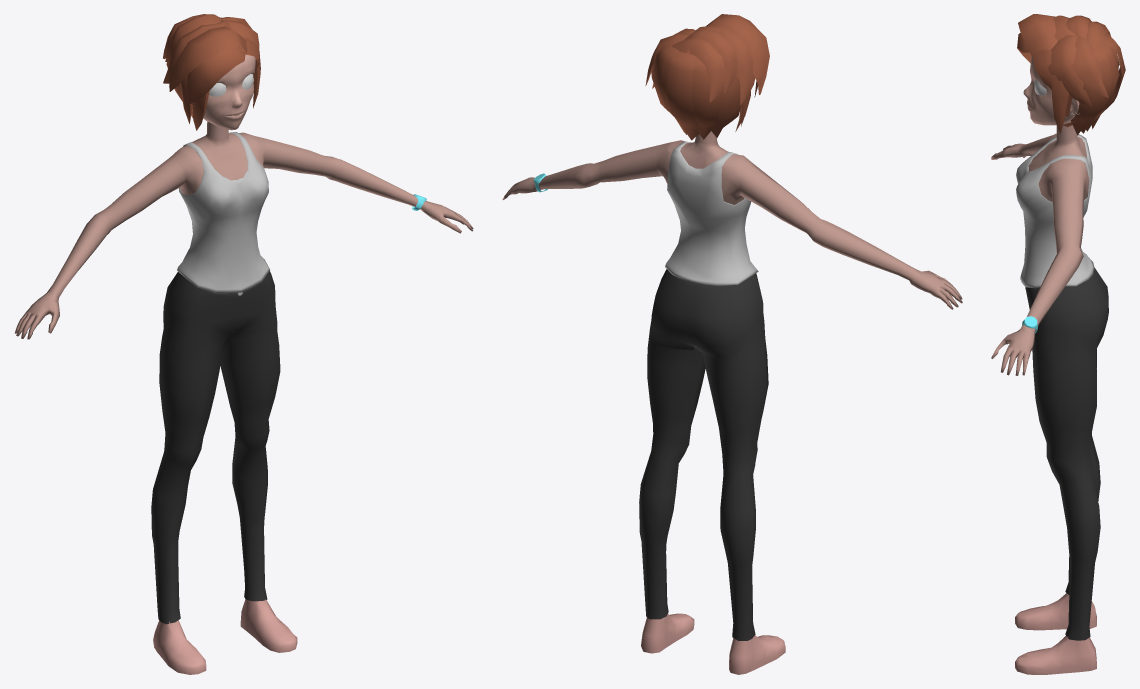
File: Girl.FBX
The picture shows the model from 3 angles, left to right: view 1: azimuth 30°, elevation 25°; view 2: azimuth 150°, elevation 25°; view 3: azimuth 270°, elevation 25°; orthographic projection.
Visible parts, largest first — view 1: Object126, Object196, Object194, Object164, Object175, Plane002, Object180, Object177; view 2: Object126, Object196, Object194, Object164, Object181, Plane002, Object184, Object179, Object177, Object178, Object185; view 3: Object126, Object196, Object194, Object164, Object188, Object175, Plane002, Object187, Plane001, Object186, Object182, Object189 (+6 smaller).
Part boxes in pixels (x1,y1,x2,y2): Object126: (151, 271, 280, 624); Object196: (14, 121, 473, 339); Object194: (177, 132, 269, 293); Object164: (153, 599, 297, 674); Object175: (192, 54, 255, 130); Plane002: (169, 26, 247, 91); Object180: (185, 46, 245, 104); Object177: (163, 20, 230, 83); Object126: (639, 269, 768, 640); Object196: (502, 131, 962, 309); Object194: (665, 141, 758, 285); Object164: (641, 613, 785, 674); Object181: (666, 51, 699, 140); Plane002: (705, 14, 769, 94); Object184: (692, 56, 720, 139); Object179: (672, 37, 726, 102); Object177: (695, 26, 755, 105); Object178: (685, 29, 737, 93); Object185: (711, 72, 740, 137); Object126: (1025, 267, 1108, 640); Object196: (991, 120, 1089, 375); Object194: (1016, 134, 1094, 288); Object164: (1015, 593, 1096, 674); Object188: (1048, 35, 1092, 106); Object175: (1023, 55, 1079, 125); Plane002: (1018, 14, 1057, 55); Object187: (1070, 36, 1108, 97); Plane001: (1049, 35, 1118, 133); Object186: (1070, 55, 1105, 135); Object182: (1086, 43, 1119, 131); Object189: (1032, 49, 1068, 106).
Bounding box in the file's own units: 144 × 190 × 37.12.
